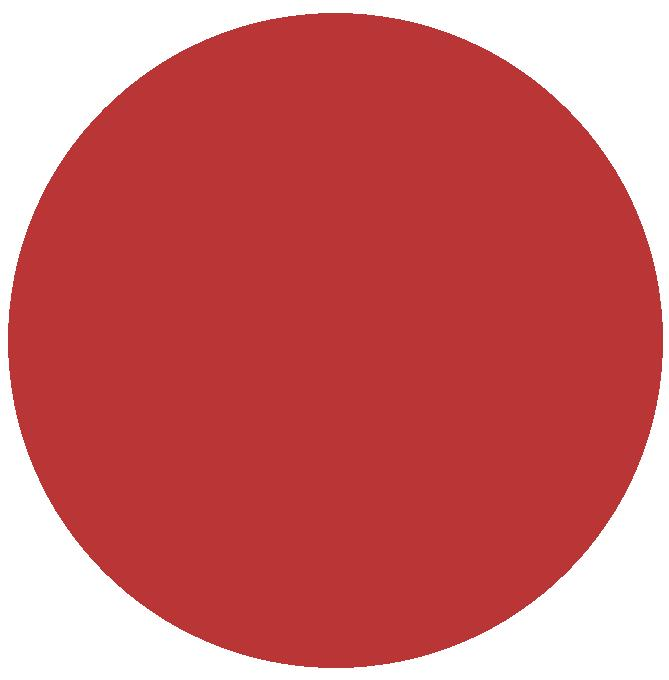red_circle: (0, 2, 669, 680)
